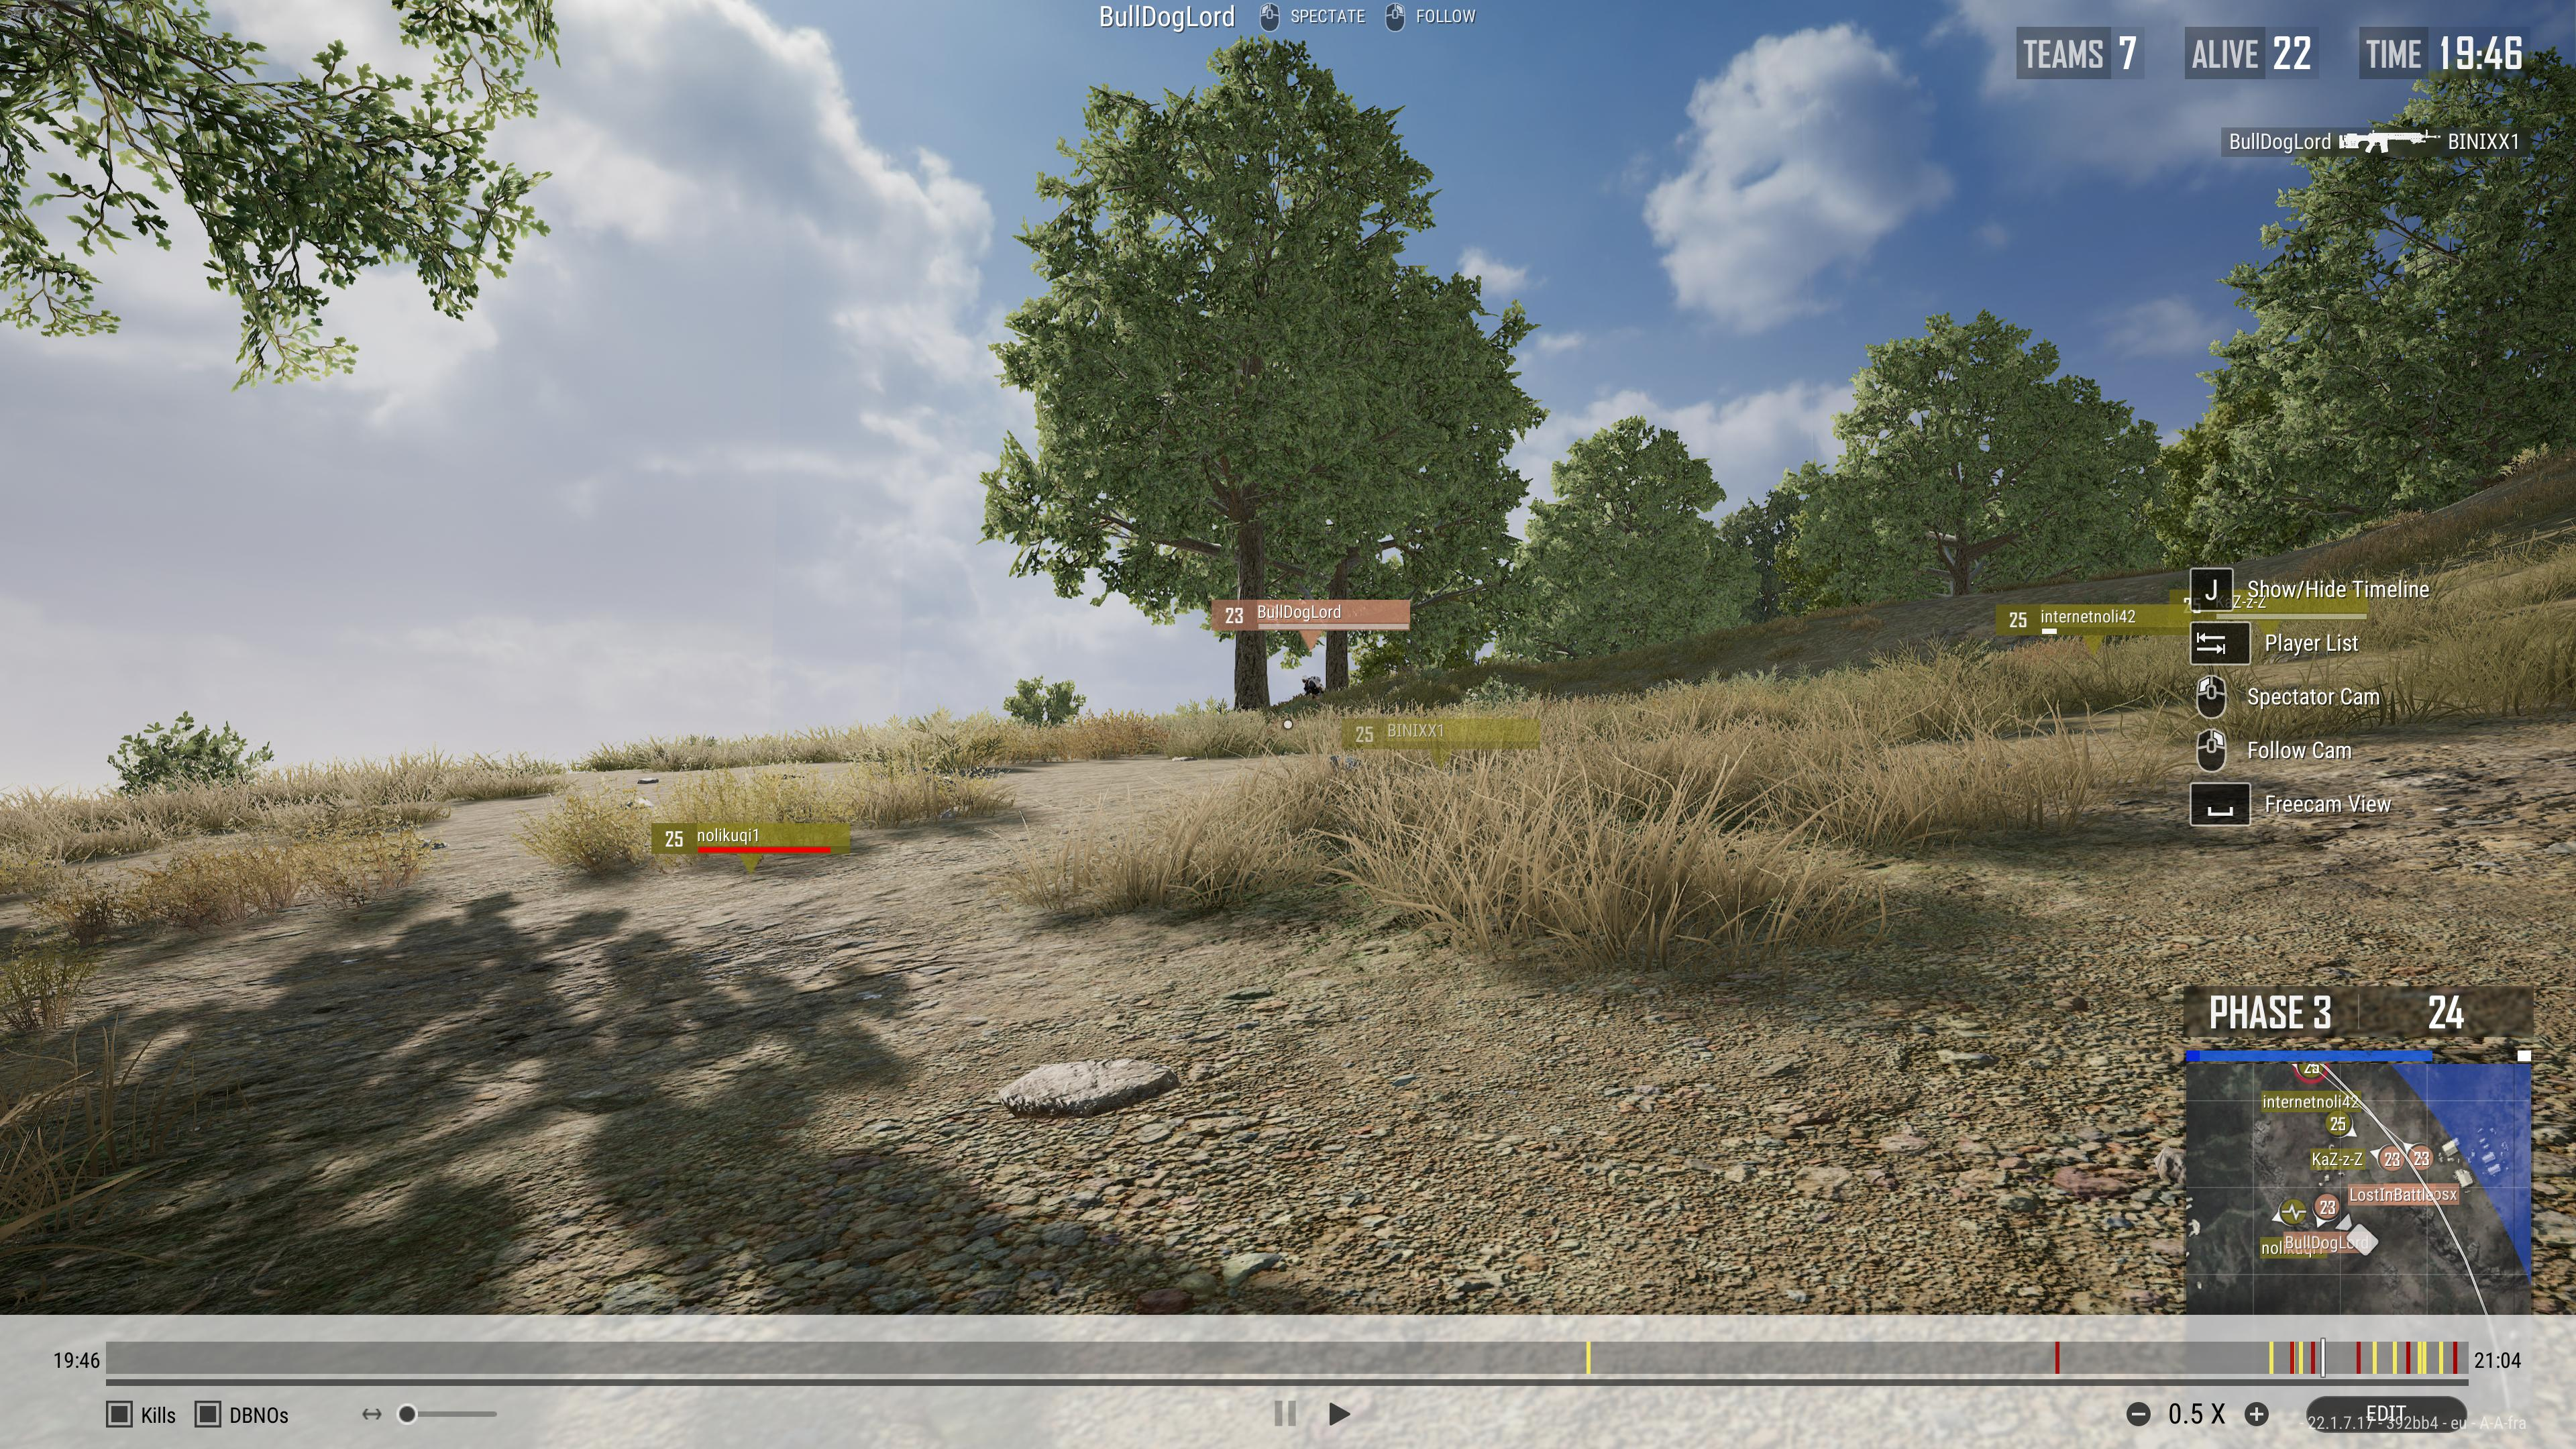enemy: (1299, 674, 1323, 701)
enemy_head: (1300, 674, 1307, 683)
